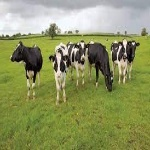Animal: (8, 41, 45, 101), (87, 40, 114, 94), (111, 35, 138, 85), (50, 43, 69, 102), (70, 41, 87, 88)
Uncultivated: (2, 36, 147, 148)
